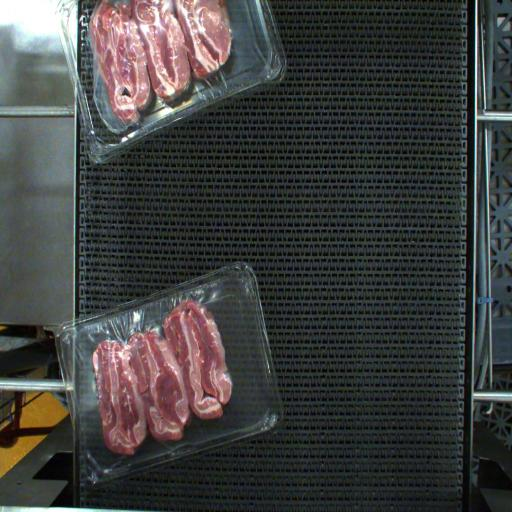unsealed: (78, 290, 241, 457)
